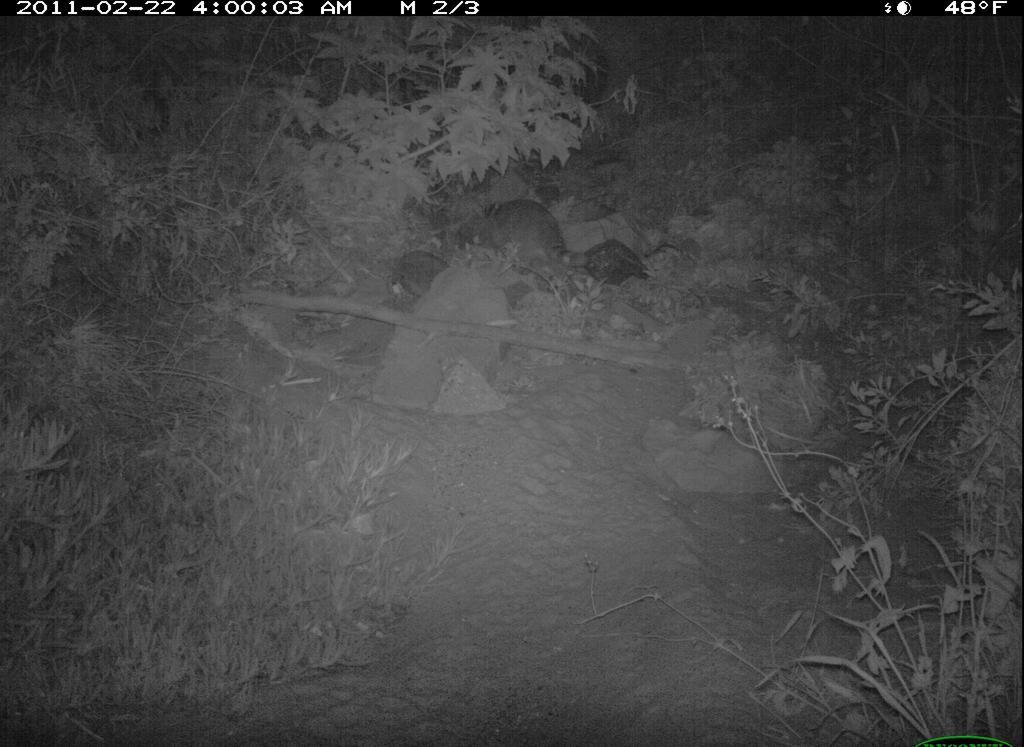raccoon: (452, 190, 601, 281)
